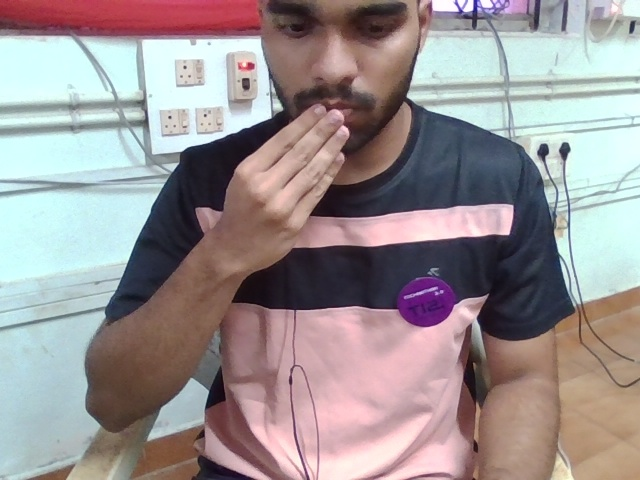eat: (209, 76, 384, 294)
